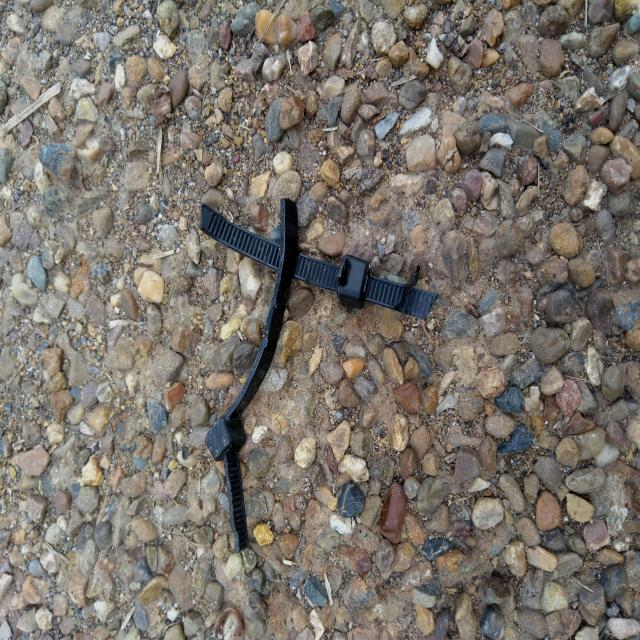Other plastic bottle: (204, 198, 298, 551), (199, 203, 439, 320)
